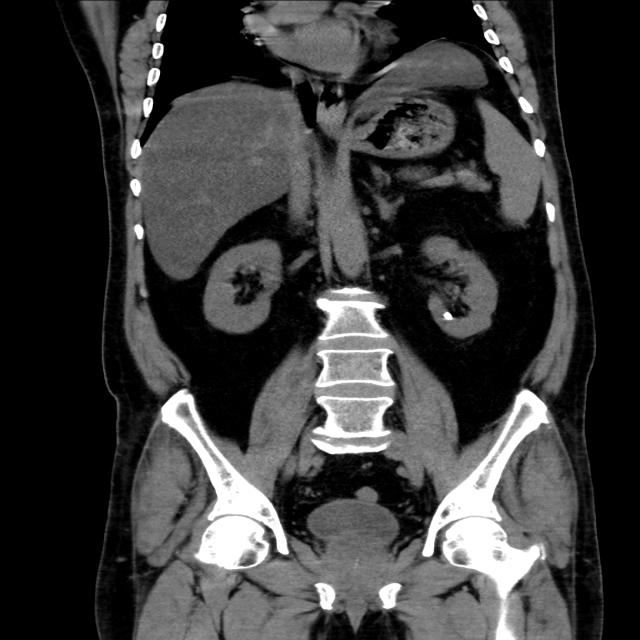kidneystone: (444, 311, 452, 320)
